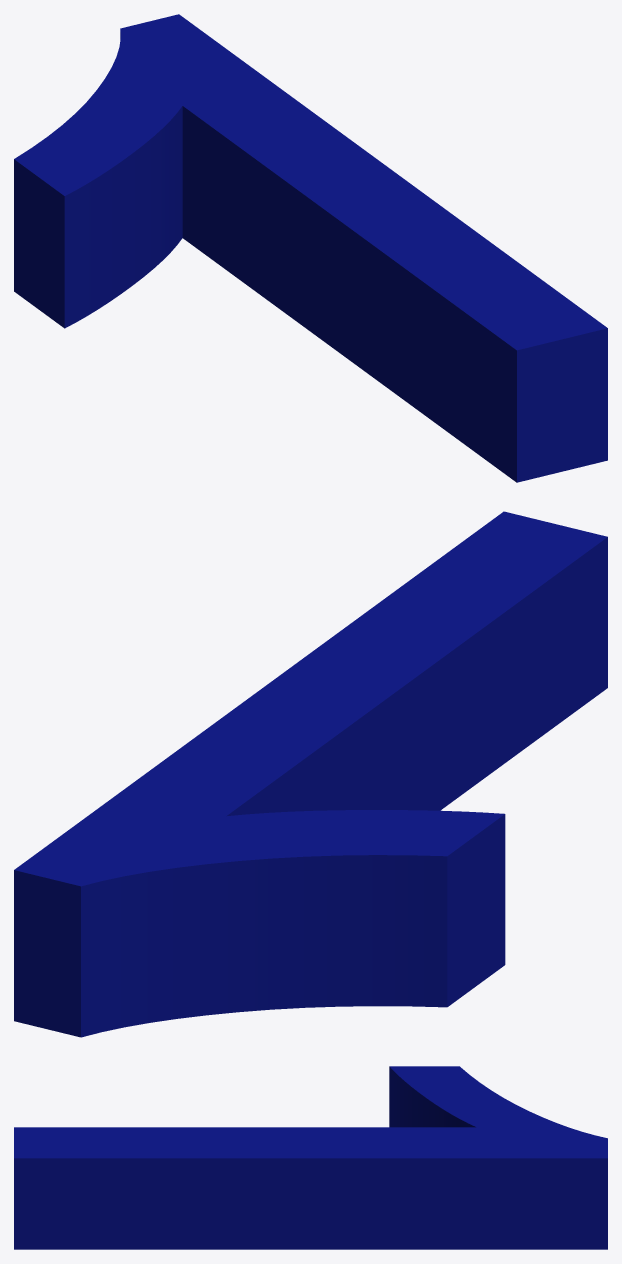
The picture shows the model from 3 angles, top to bottom: view 1: azimuth 30°, elevation 25°; view 2: azimuth 150°, elevation 25°; view 3: azimuth 270°, elevation 25°; orthographic projection. The views are drawn at different scales.
Parts seen in each view (by area): view 1: TextPlus053; view 2: TextPlus053; view 3: TextPlus053.
Boxes of the visible parts, x1=… form: TextPlus053: x1=14, y1=14, x2=607, y2=482; TextPlus053: x1=14, y1=511, x2=607, y2=1037; TextPlus053: x1=14, y1=1066, x2=607, y2=1249.
Bounding box in the file's own units: 9.44 × 4.38 × 25.76.
